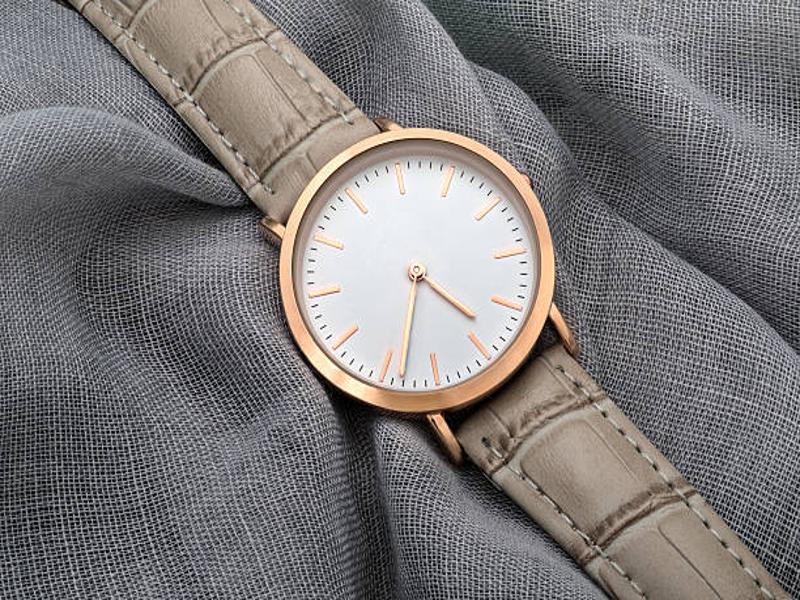watch: (166, 3, 742, 576)
